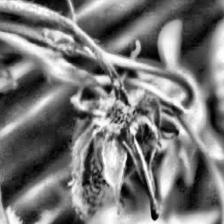Gray Mold: (68, 59, 185, 224)
